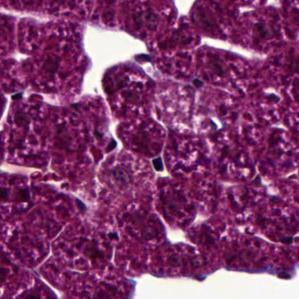inflammation: (148, 154, 171, 177)
